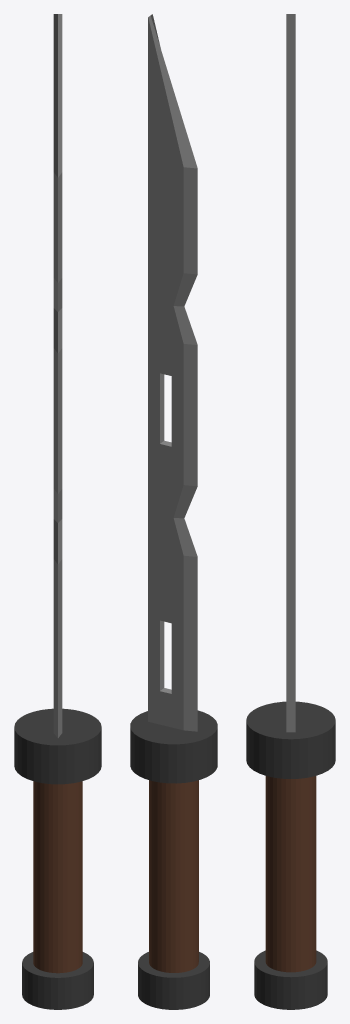
The model's file is Sword.fbx.
The picture shows the model from 3 angles, left to right: view 1: azimuth 90°, elevation 25°; view 2: azimuth 150°, elevation 25°; view 3: azimuth 270°, elevation 25°; orthographic projection. The views are drawn at different scales.
Parts seen in each view (by area): view 1: Cube; view 2: Cube; view 3: Cube.
Boxes of the visible parts, x1,y1,x2,y2 form: Cube: (14, 14, 101, 1009); Cube: (130, 14, 217, 1009); Cube: (246, 14, 335, 1009).
Size of the model in its own units: 65.71 by 804 by 65.71.
1 material, 1 textured.
